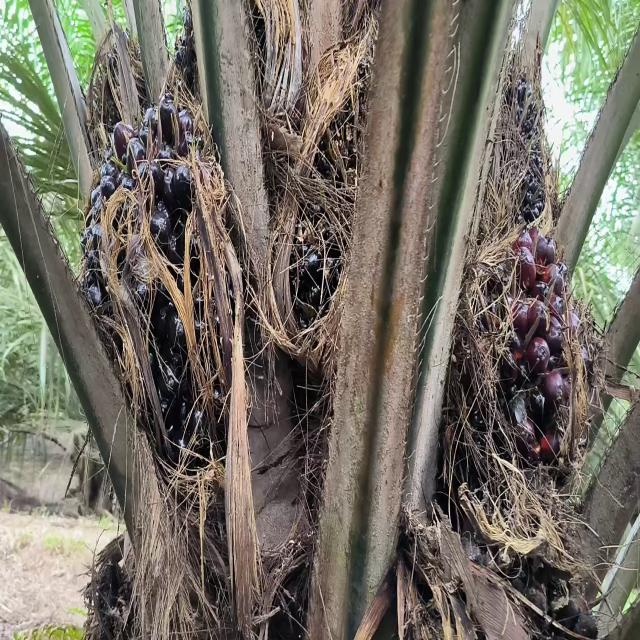palm-oil: (75, 113, 236, 497), (434, 230, 602, 553), (272, 227, 376, 434), (477, 73, 560, 233)
